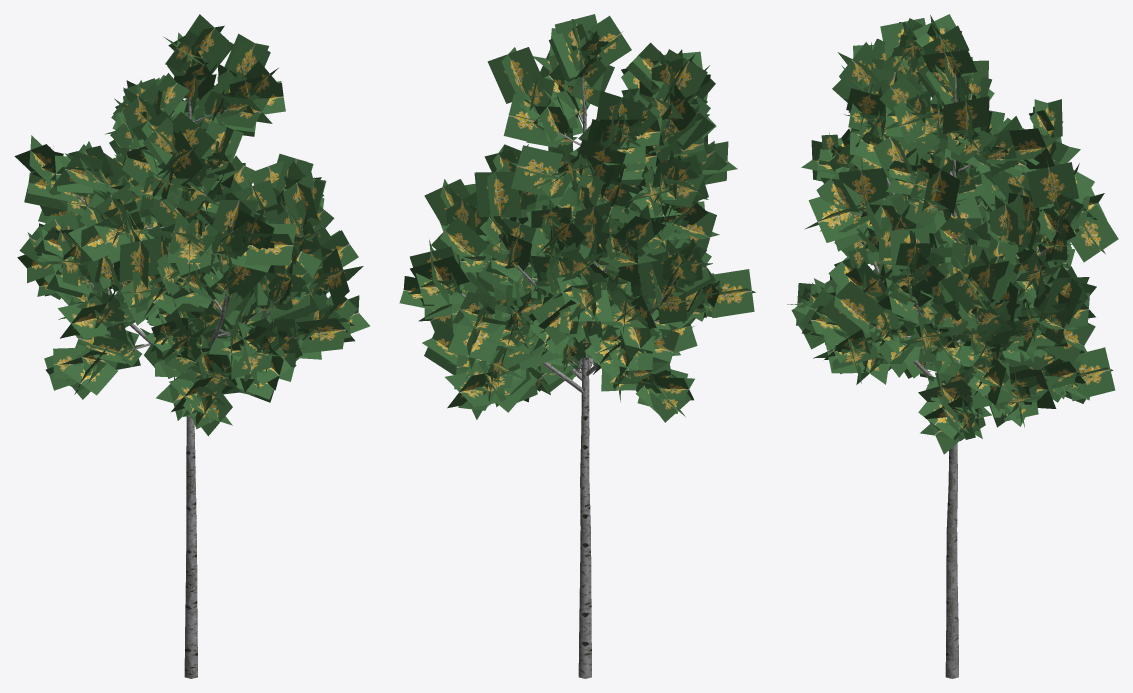
Rendered from tree_aspen_large.glb.
3 renders of one model, left to right at view 1: azimuth 30°, elevation 25°; view 2: azimuth 150°, elevation 25°; view 3: azimuth 270°, elevation 25°, orthographic.
Parts seen in each view (by area): view 1: Leaves, Branches; view 2: Leaves, Branches; view 3: Leaves, Branches.
Part boxes in pixels (bbox=[...]): Leaves: bbox=[14, 14, 369, 436]; Branches: bbox=[75, 63, 303, 678]; Leaves: bbox=[399, 14, 755, 422]; Branches: bbox=[448, 64, 675, 678]; Leaves: bbox=[787, 14, 1118, 454]; Branches: bbox=[831, 60, 1058, 678].
Bounding box in the file's own units: 6.98 × 14 × 6.45.
2 materials, 2 textured.
